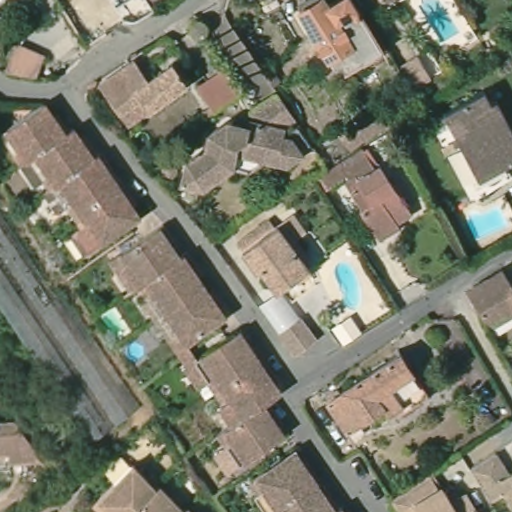pool: (416, 1, 463, 43), (465, 205, 512, 243), (333, 261, 366, 313), (95, 308, 133, 339), (125, 341, 147, 363)
